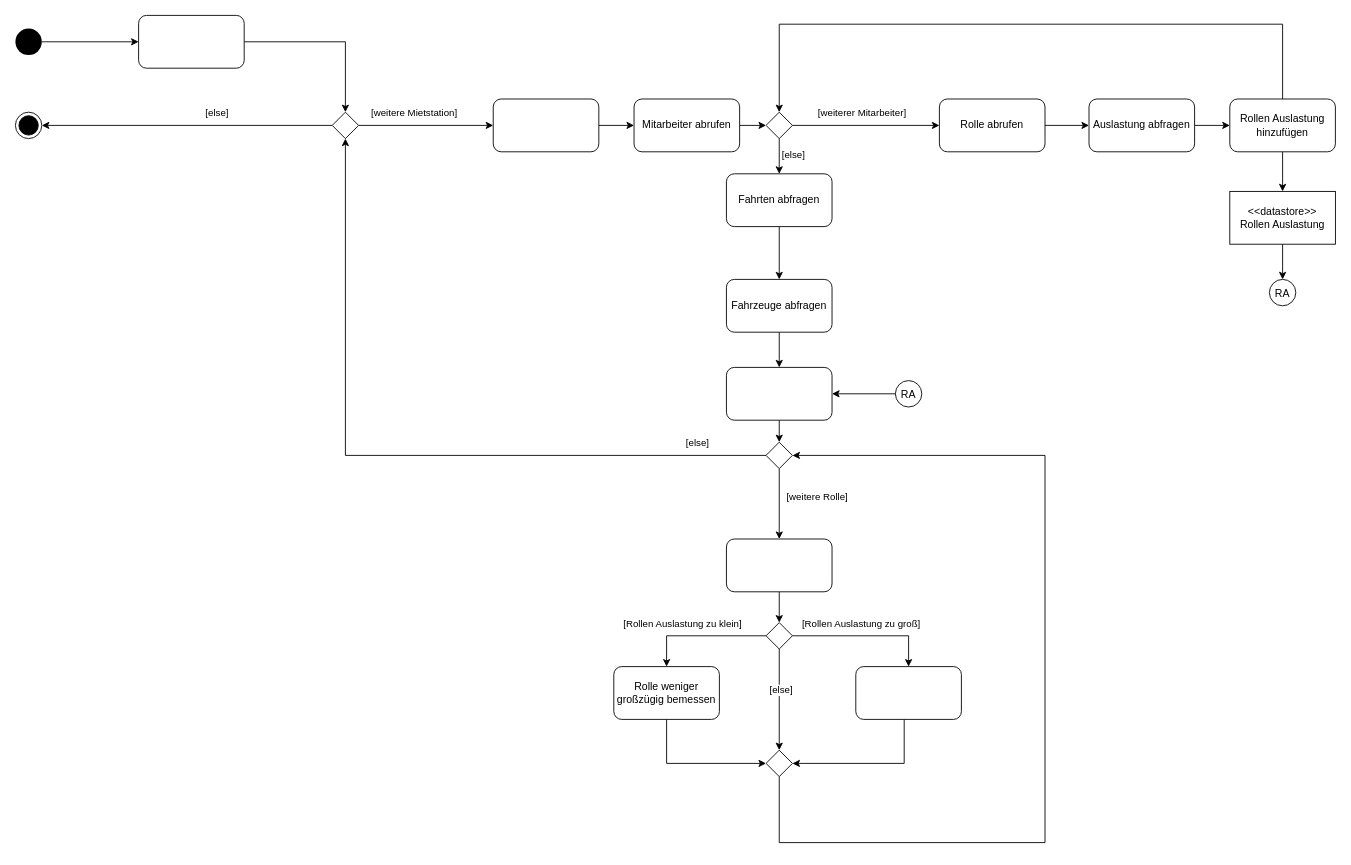
Some shapes in this 1351 by 865 pixel diagram are drawn without their labels. The centre of each missing label's shape, as x and y in pixels:
"aktuellen Personalplan abrufen" goes at point 545,125.
"Mietstationen abrufen" goes at point 191,41.
"Rolle großzügiger bemessen" goes at point 908,692.
"Rollen Auslatung abrufen" goes at point 779,393.
"Rollen Auslatung mit Fahrten und Fahrzeugen vergleichen" goes at point 779,565.
